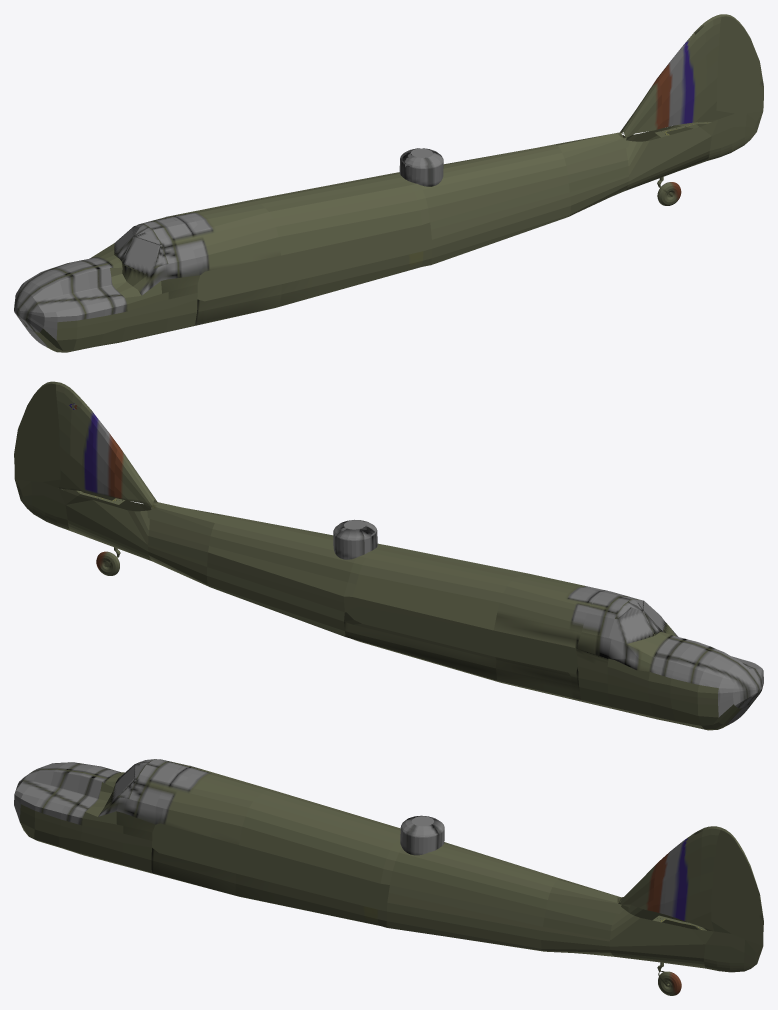
File: BlenheimFuselage.obj
3 views of the same model, one above another, from view 1: azimuth 30°, elevation 25°; view 2: azimuth 150°, elevation 25°; view 3: azimuth 330°, elevation 25° (orthographic).
Parts seen in each view (by area): view 1: Aircraft_Cylinder; view 2: Aircraft_Cylinder; view 3: Aircraft_Cylinder.
Boxes of the visible parts, x1,y1,x2,y2 form: Aircraft_Cylinder: [14, 14, 763, 352]; Aircraft_Cylinder: [14, 381, 763, 730]; Aircraft_Cylinder: [14, 759, 763, 995].
Size of the model in its own units: 12.79 by 2.95 by 1.44.
